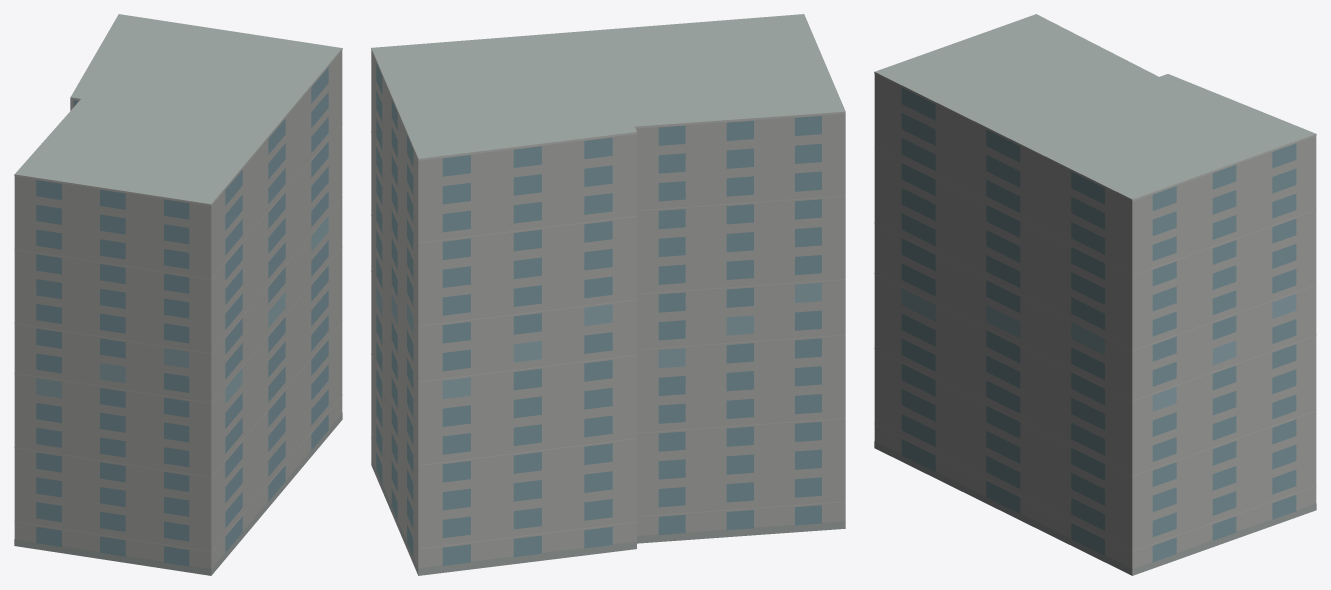
The model's file is survey-upis-32721049.glb.
3 views of the same model, side by side, from view 1: azimuth 30°, elevation 25°; view 2: azimuth 150°, elevation 25°; view 3: azimuth 270°, elevation 25° (orthographic). The views are drawn at different scales.
Parts seen in each view (by area): view 1: survey-upis-32721049.tmp; view 2: survey-upis-32721049.tmp; view 3: survey-upis-32721049.tmp.
Part boxes in pixels (left/top/right/bottom): survey-upis-32721049.tmp: left=14, top=14, right=342, bottom=575; survey-upis-32721049.tmp: left=371, top=14, right=845, bottom=575; survey-upis-32721049.tmp: left=874, top=14, right=1316, bottom=575.
Size of the model in its own units: 52.82 by 49.95 by 53.18.
